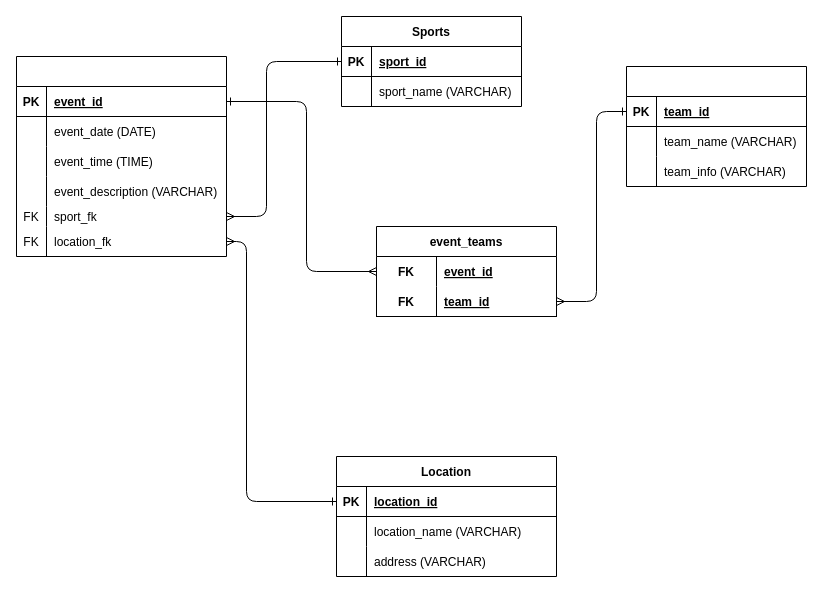
The diagram is 823 pixels wide and 593 high, and some of its shapes have lost their labels. Each missing label, with the box of its shape:
Events: (16, 56, 226, 256)
Teams: (626, 66, 806, 186)
